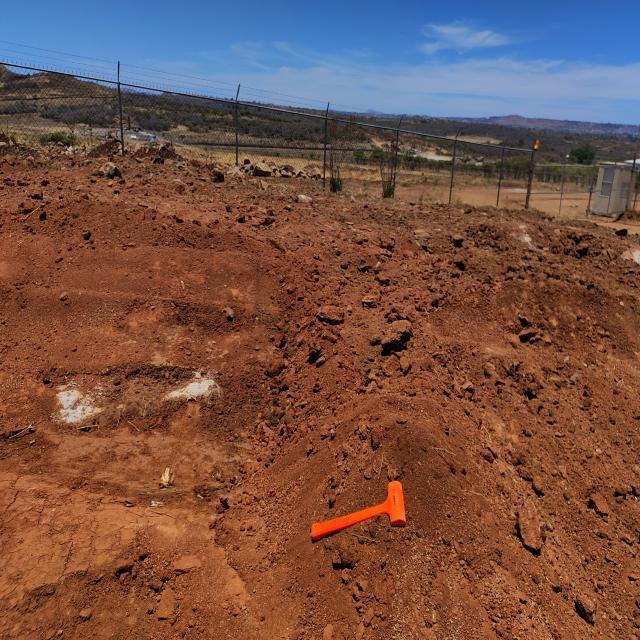Orange_hammer: (309, 479, 406, 543)
